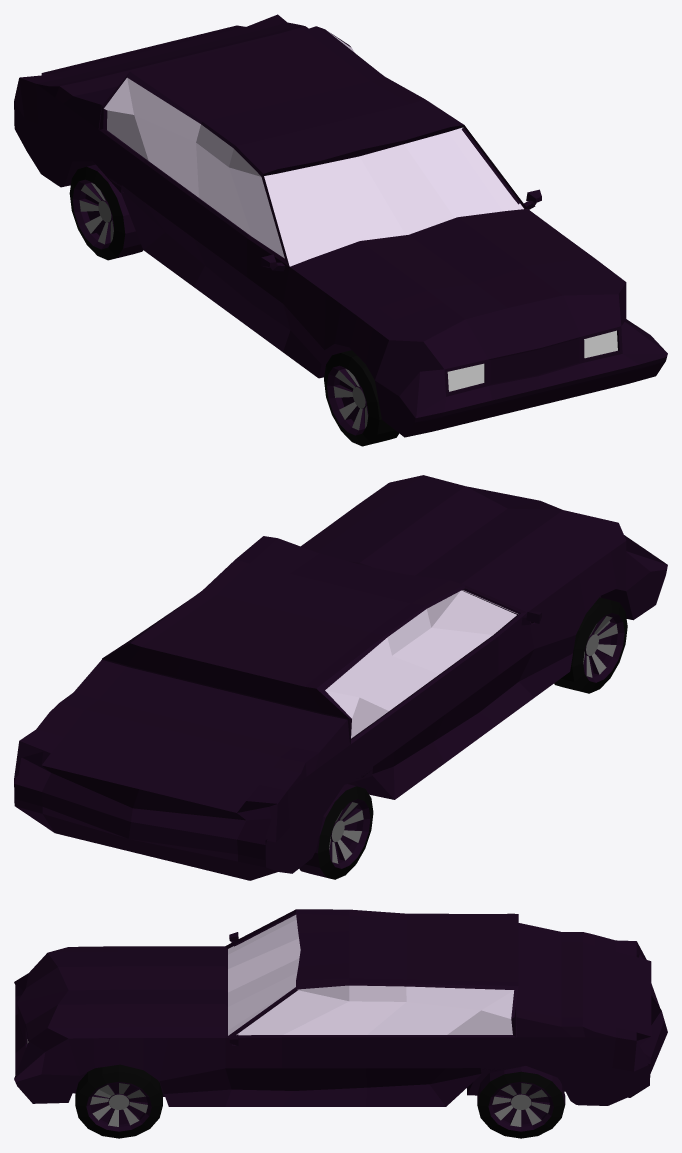
Rendered from Broom2.fbx.
3 renders of one model, top to bottom at view 1: azimuth 30°, elevation 25°; view 2: azimuth 150°, elevation 25°; view 3: azimuth 270°, elevation 25°, orthographic. The views are drawn at different scales.
Visible parts, largest first — view 1: Cube; view 2: Cube; view 3: Cube.
Boxes of the visible parts, x1,y1,x2,y2 form: Cube: (14, 14, 667, 446); Cube: (14, 475, 667, 880); Cube: (14, 909, 667, 1138).
Bounding box in the file's own units: 0.3176 × 0.1992 × 0.8169.
